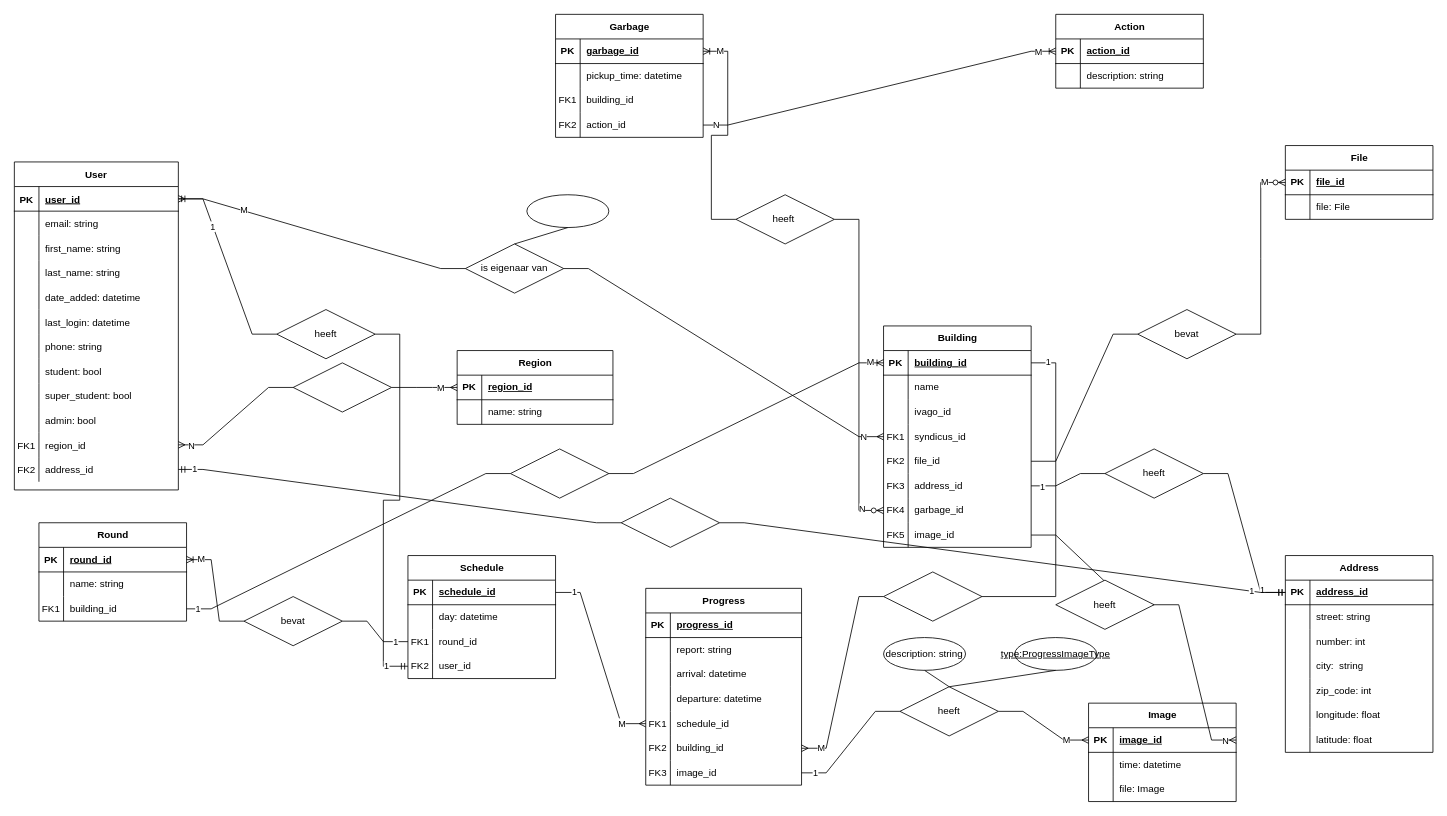
The diagram is 1447 pixels wide and 816 high, and some of its shapes have lost their labels. The centre of each missing label's shape, as x and y in pixels:
"bestaat uit" belongs at point 559,473.
"hoort bij" belongs at point 932,596.
"syndicus" belongs at point 567,211.
"werkt in" belongs at point 342,387.
"woont" belongs at point 670,522.
